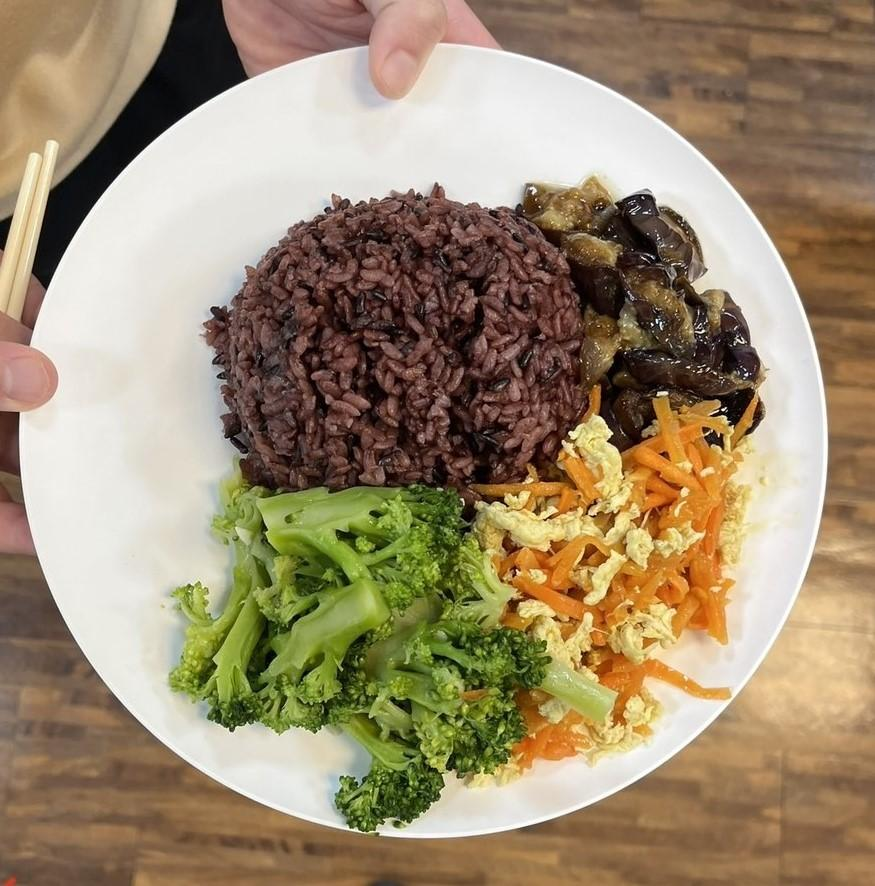big fried chicken leg: (10, 20, 849, 852)
braised fish: (209, 188, 574, 495)
braised fish fillet: (188, 476, 529, 831), (471, 382, 748, 754), (532, 178, 765, 441)
